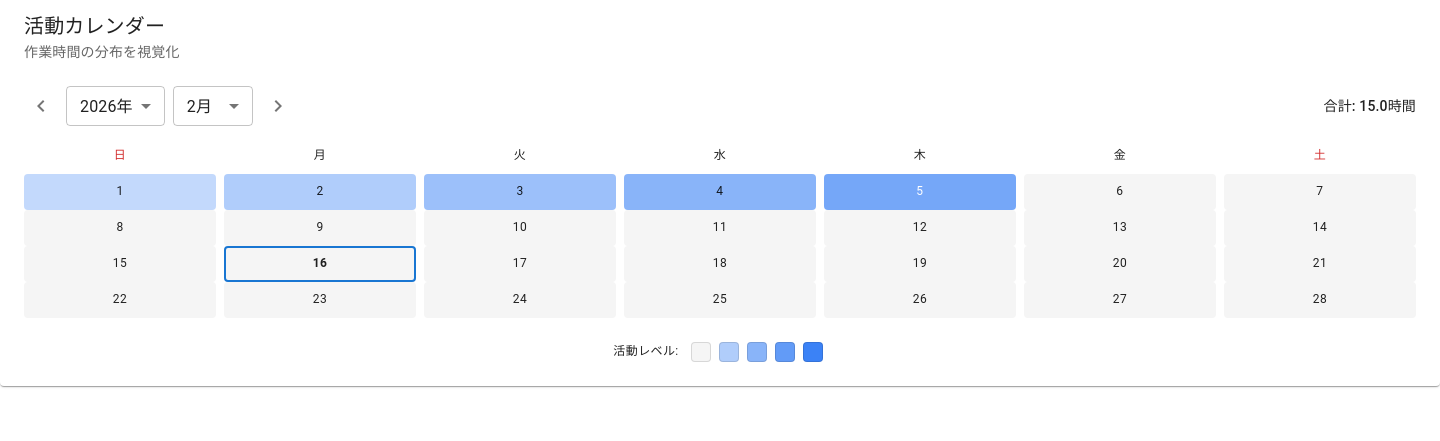
Test case: ActivityCalendar › 年月ナビゲーション › 前月ボタンをクリックすると前月が表示される
What coordinates should you click on to do the following:
click the button with test id "ChevronLeftIcon"
I would click on:
 (41, 106)
Its box is [24,89,58,123].
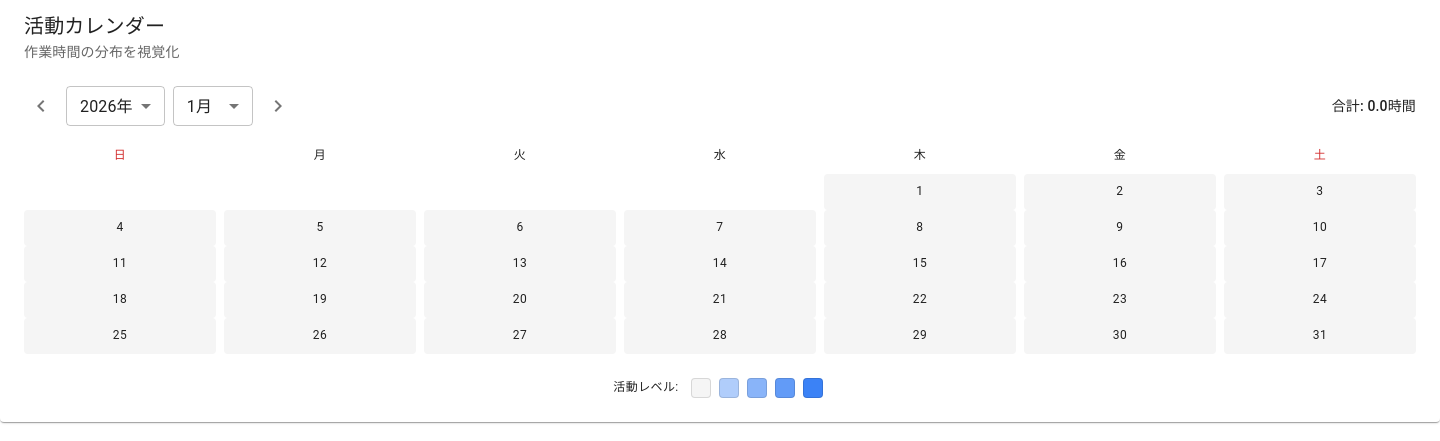
Now the dropdown "1月" is shown, box [187,96,212,116]
